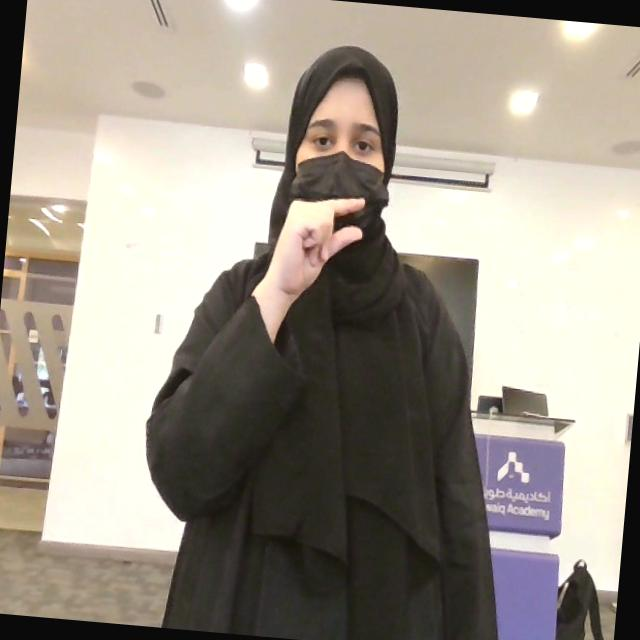fasting: (265, 188, 366, 302)
